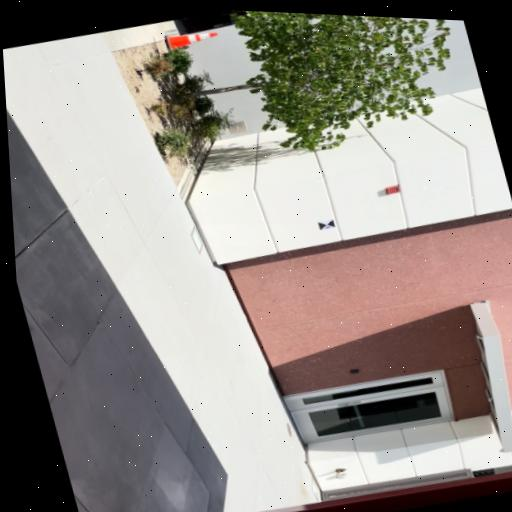target6: (317, 218, 335, 230)
